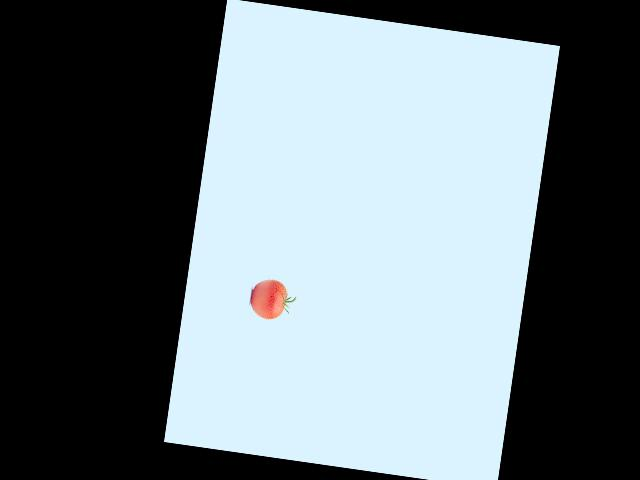tomato: (248, 277, 288, 322)
